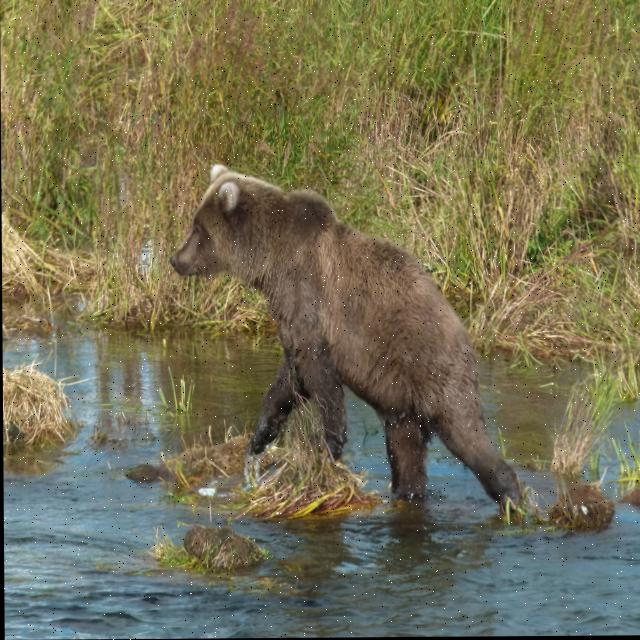bear face: (166, 159, 518, 511)
